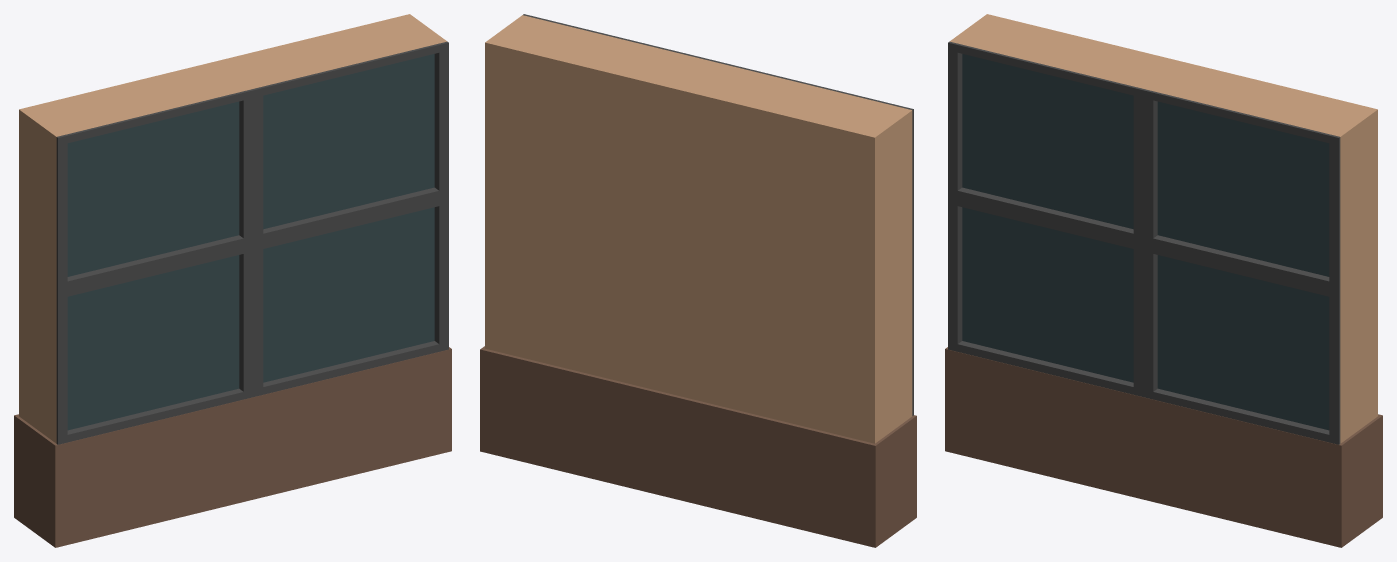
The model's file is Security Screens.fbx.
3 renders of one model, left to right at view 1: azimuth 30°, elevation 25°; view 2: azimuth 150°, elevation 25°; view 3: azimuth 330°, elevation 25°, orthographic.
Visible parts, largest first — view 1: Security Screens; view 2: Security Screens; view 3: Security Screens.
Part boxes in pixels (x1=…): Security Screens: x1=14, y1=14, x2=451, y2=547; Security Screens: x1=480, y1=14, x2=916, y2=547; Security Screens: x1=945, y1=14, x2=1382, y2=547.
Size of the model in its own units: 15.21 by 15 by 2.75.
